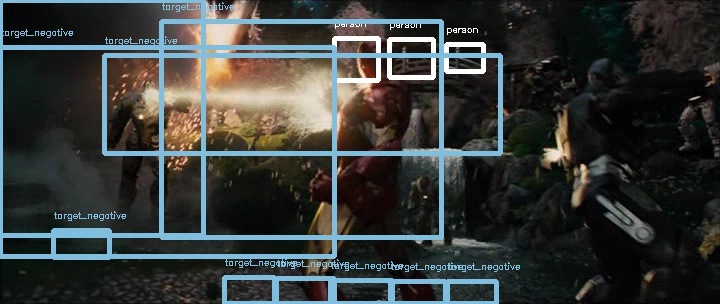person: (354, 32, 397, 81), (353, 32, 396, 81), (355, 32, 398, 81), (354, 31, 397, 80), (354, 33, 397, 82)
target_negative: (151, 142, 629, 270), (332, 48, 474, 304), (267, 137, 437, 242), (348, 127, 707, 148), (412, 167, 700, 192), (607, 121, 620, 157)
